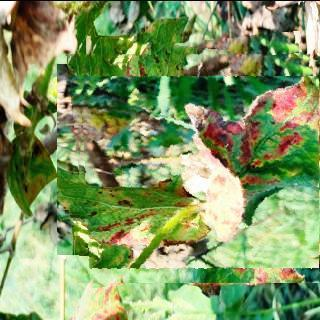blight: (72, 35, 319, 282)
